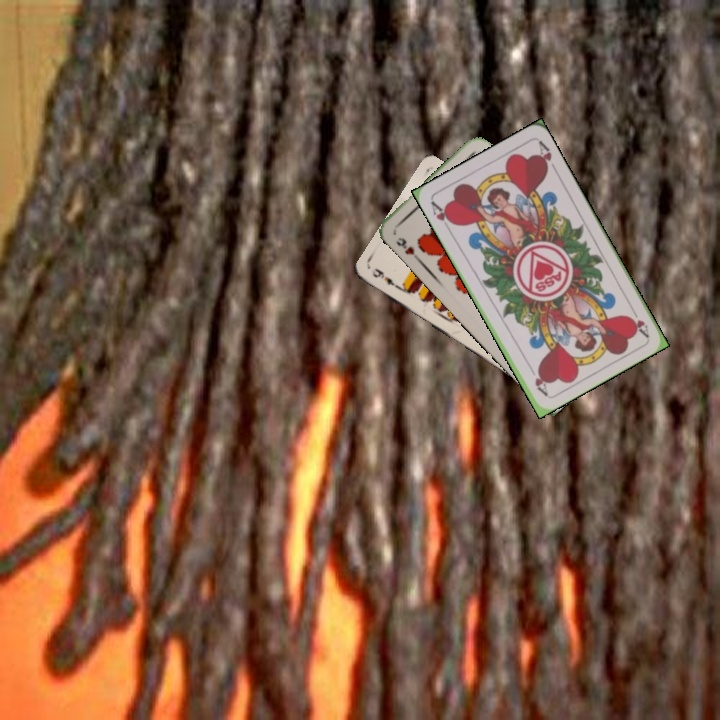E9: (367, 264, 404, 292)
H9: (392, 233, 422, 263)
HA: (427, 197, 456, 234), (625, 301, 652, 339)
